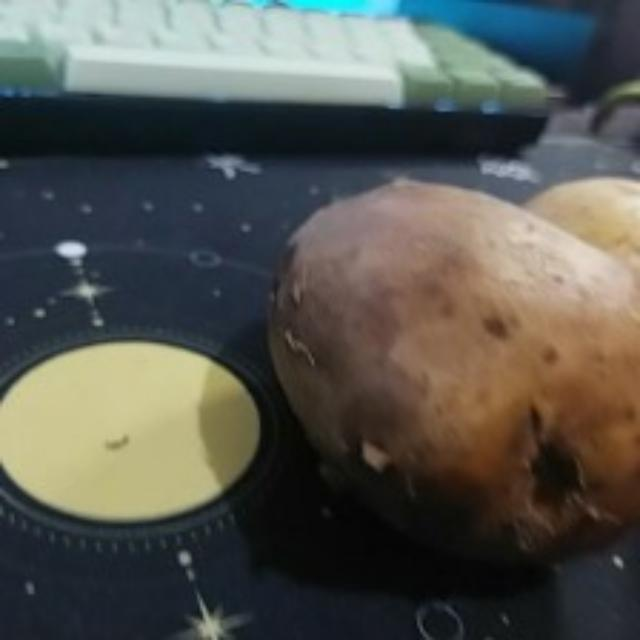Damaged potato: (266, 180, 640, 572)
Potato: (524, 170, 640, 280)
